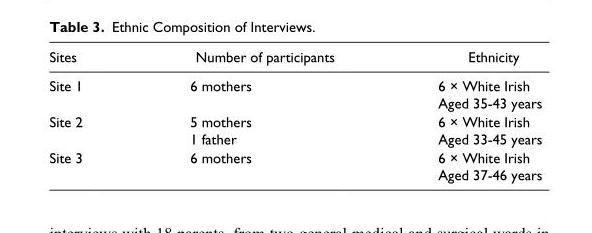table: (48, 47, 541, 183)
table column: (135, 47, 385, 183), (385, 47, 541, 183), (48, 47, 135, 183)
table column header: (48, 47, 541, 70)
table row: (48, 70, 541, 111), (48, 111, 541, 147), (48, 147, 541, 183), (48, 47, 541, 70)
